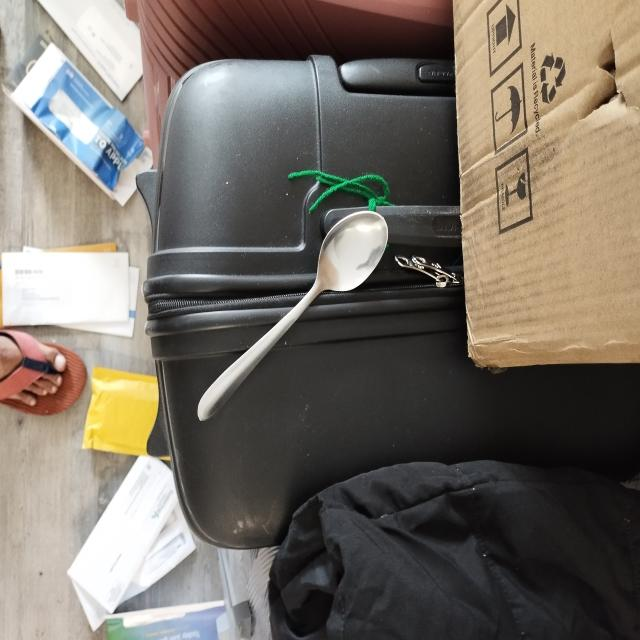Spoon: (178, 205, 405, 434)
